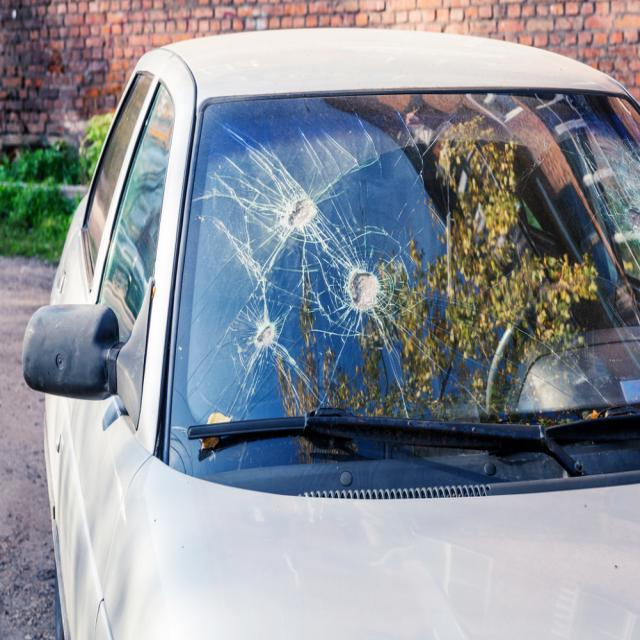Windshield: (203, 111, 443, 398)
